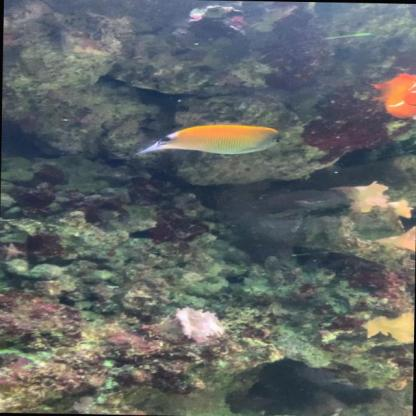fish: (127, 123, 284, 158), (373, 72, 415, 121)
